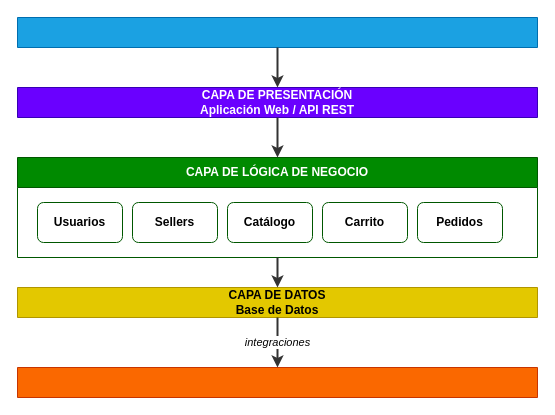
Some shapes in this 555 by 415 pixel diagram are drawn without their labels. The centre of each missing label's shape, as x and y in pixels:
ACTORES (Cliente | Seller | Administrador): pixel 277 32
SISTEMAS EXTERNOS (Pasarela de Pago | ERP | Servicio de Envío): pixel 277 382
